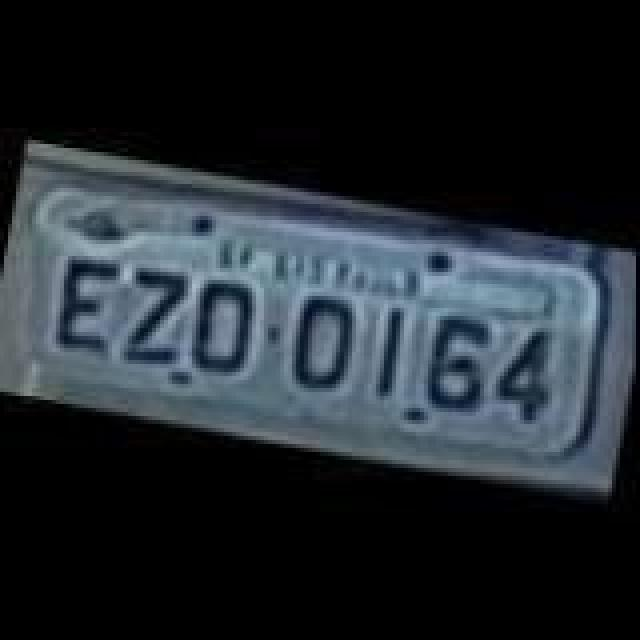1: (356, 292, 420, 400)
4: (486, 318, 562, 426)
6: (418, 302, 502, 422)
E: (44, 252, 124, 356)
O: (282, 286, 366, 398), (178, 274, 262, 386)
Z: (112, 262, 200, 370)
